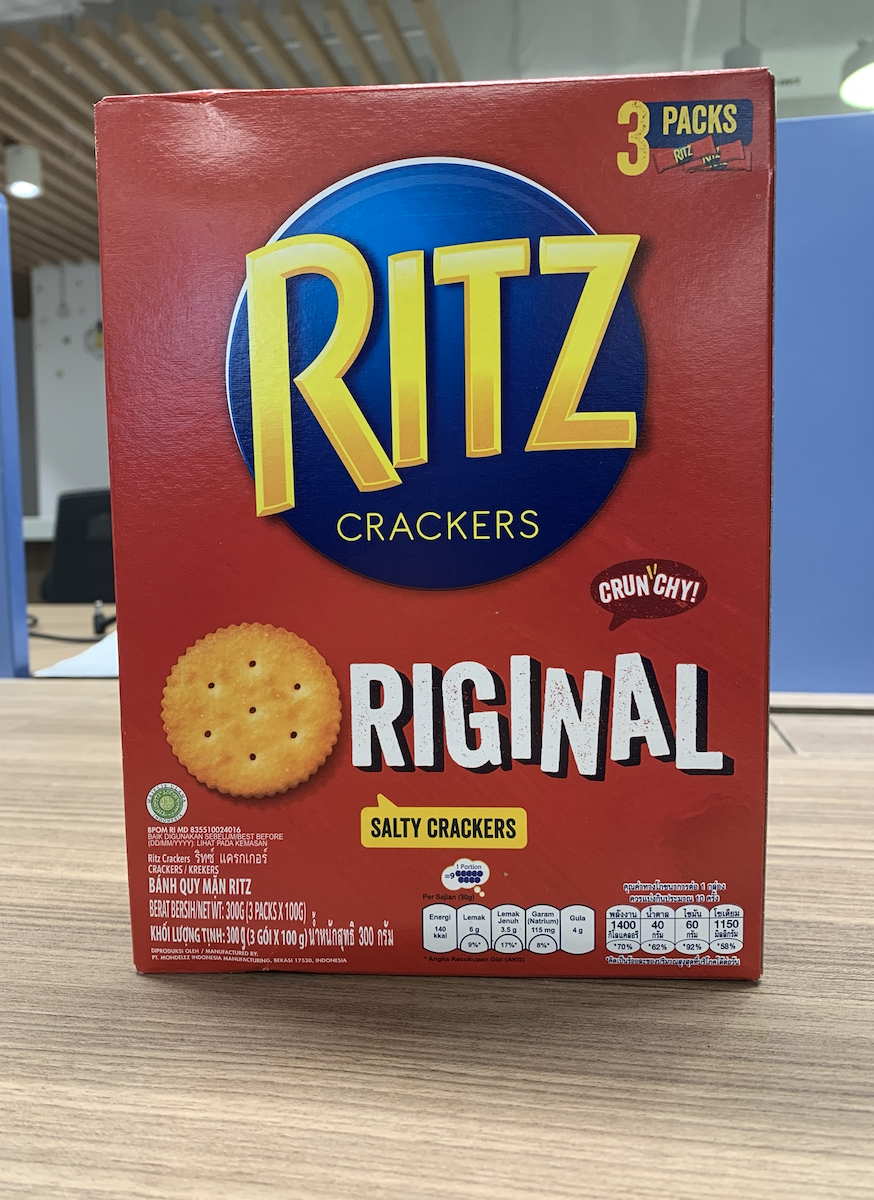crackers_300g-399g: (133, 99, 758, 969)
